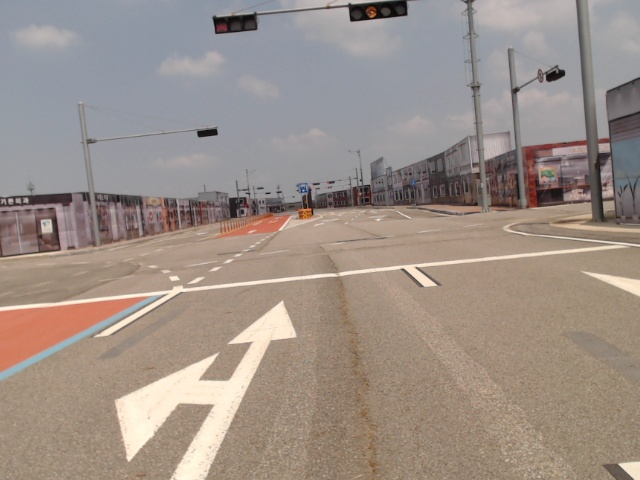orange_4: (349, 0, 408, 20)
